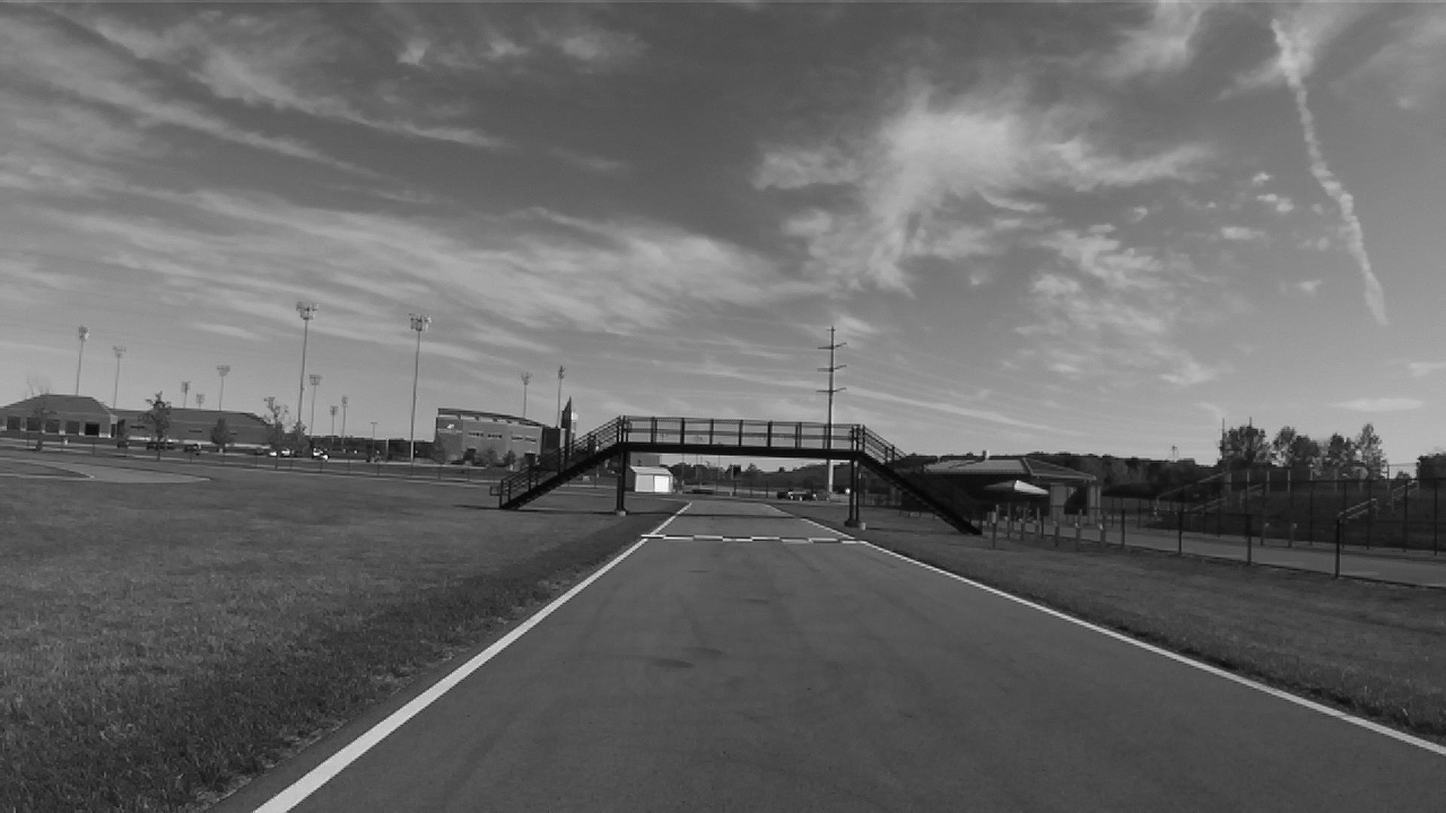white-line: (800, 518, 1445, 757), (255, 502, 691, 812)
